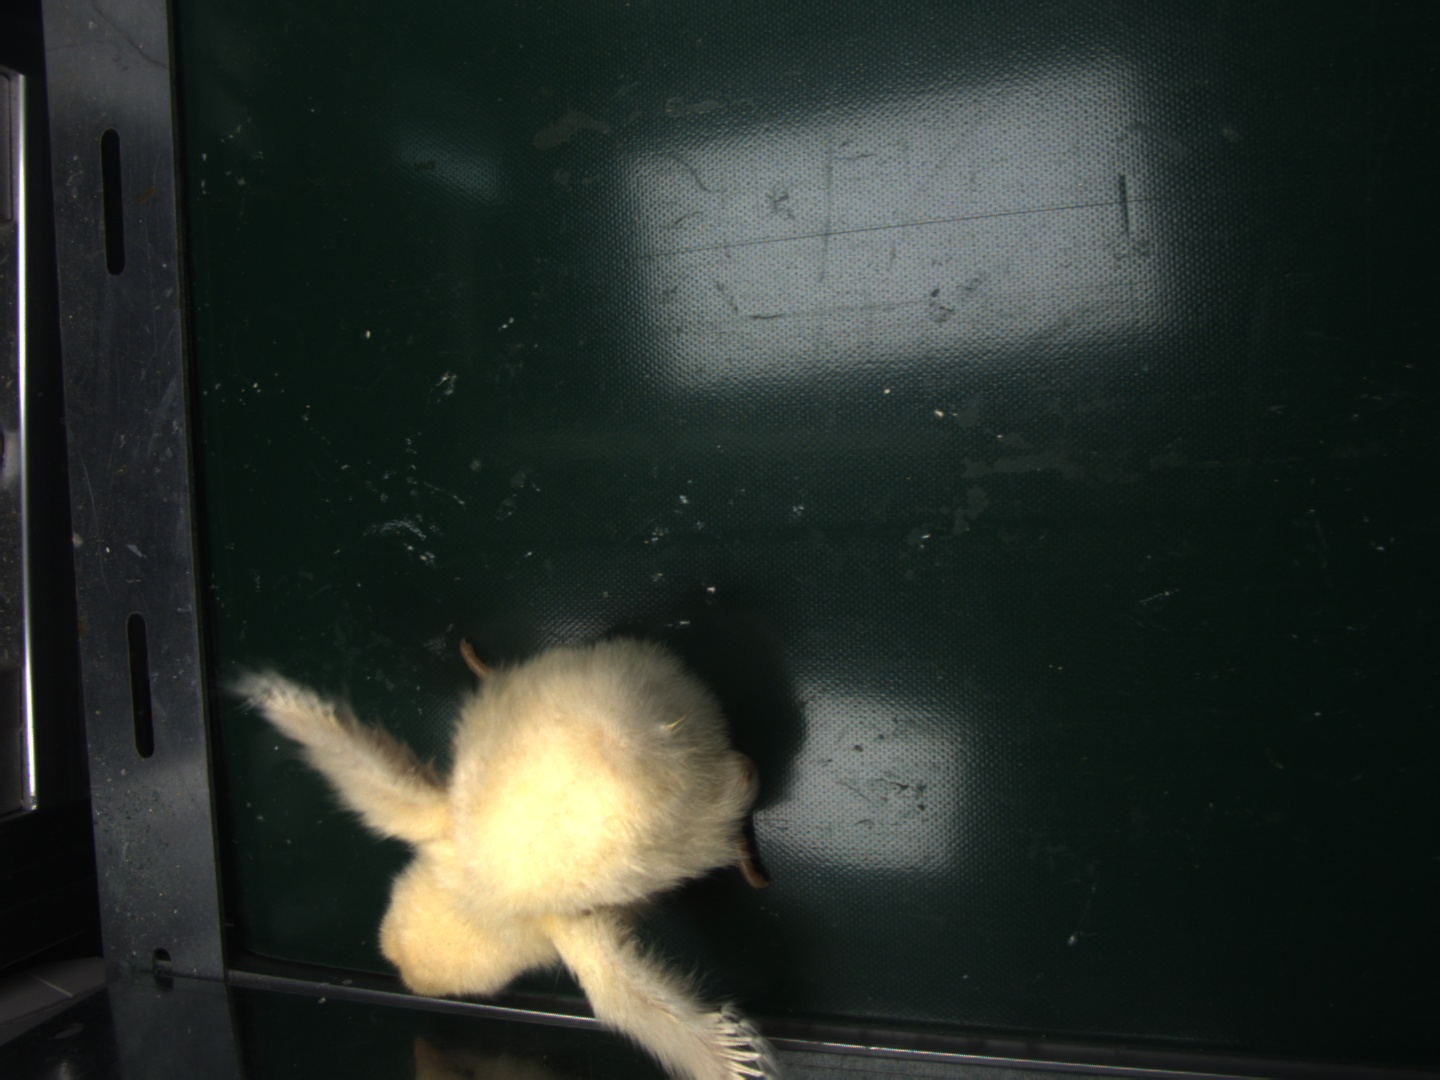male: (705, 1015, 770, 1078)
